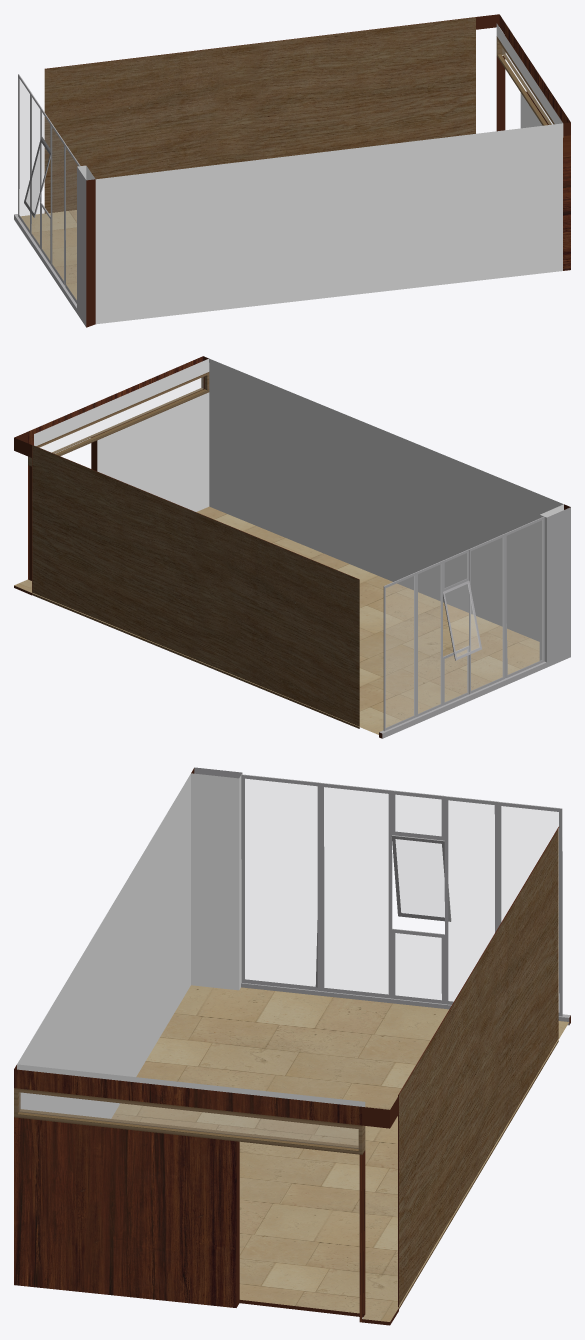
The model's file is aula_1_arriba.glb.
3 renders of one model, top to bottom at view 1: azimuth 30°, elevation 25°; view 2: azimuth 150°, elevation 25°; view 3: azimuth 270°, elevation 25°, orthographic. The views are drawn at different scales.
Parts seen in each view (by area): view 1: aula base.001; view 2: aula base.001; view 3: aula base.001.
Boxes of the visible parts, box(x1,y1,x2,y2) form: aula base.001: box(14, 14, 570, 327); aula base.001: box(14, 356, 570, 738); aula base.001: box(14, 767, 570, 1325).
Bounding box in the file's own units: 59.65 × 17.55 × 40.99.
6 materials, 3 textured.
